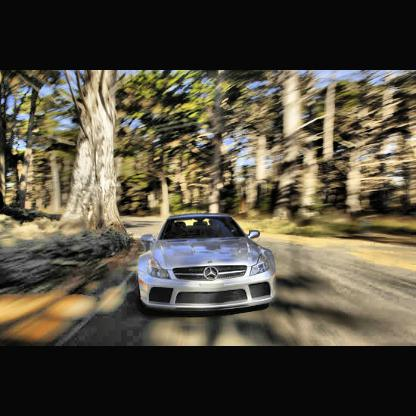Mercedes-Benz SL-Class Coupe 2009: (139, 215, 275, 310)
